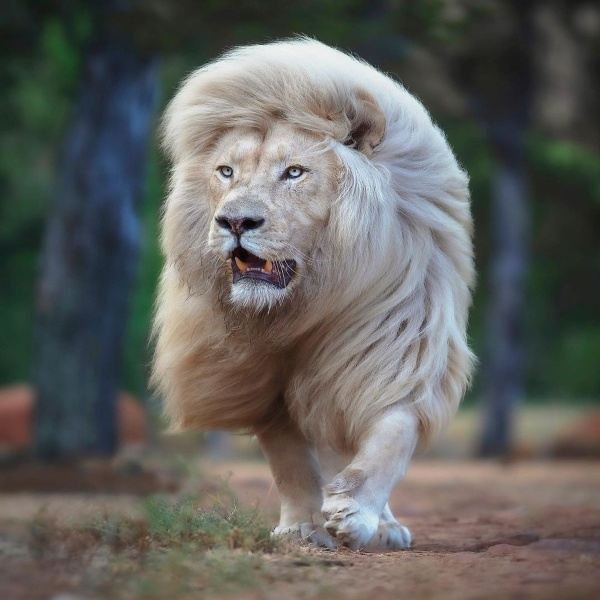Lion: (149, 30, 476, 555)
